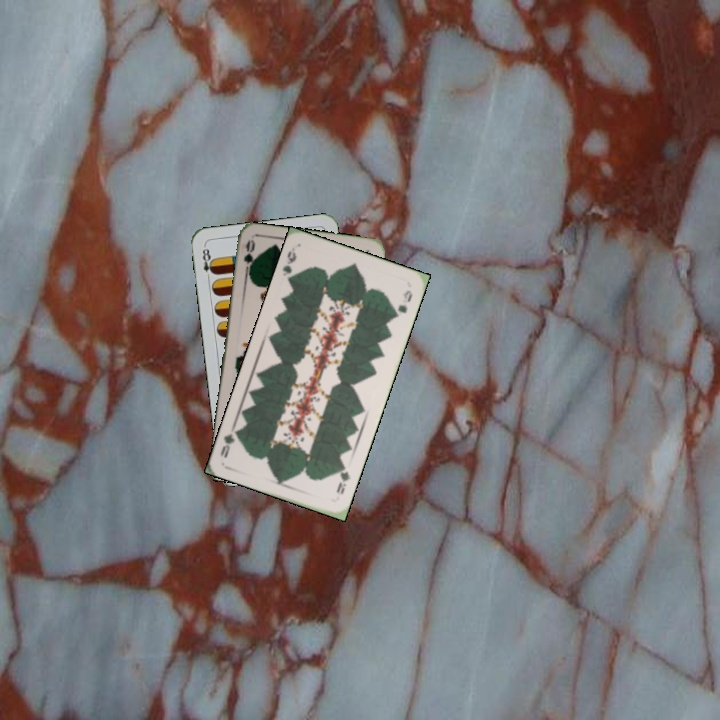E8: (198, 242, 217, 283)
G9: (278, 247, 299, 285), (332, 460, 353, 497)
GO: (240, 237, 258, 278)
